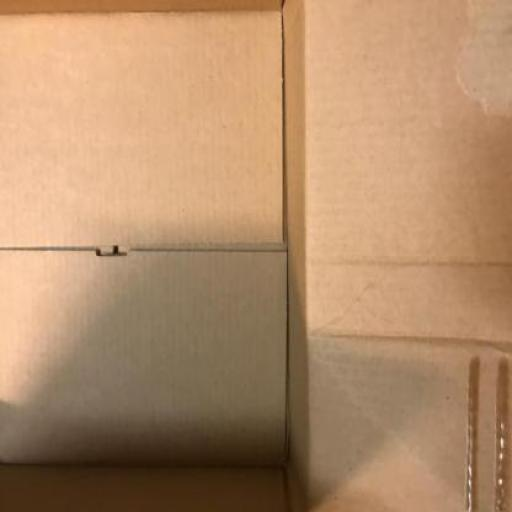cardboard: (0, 0, 511, 511), (0, 14, 289, 465)
